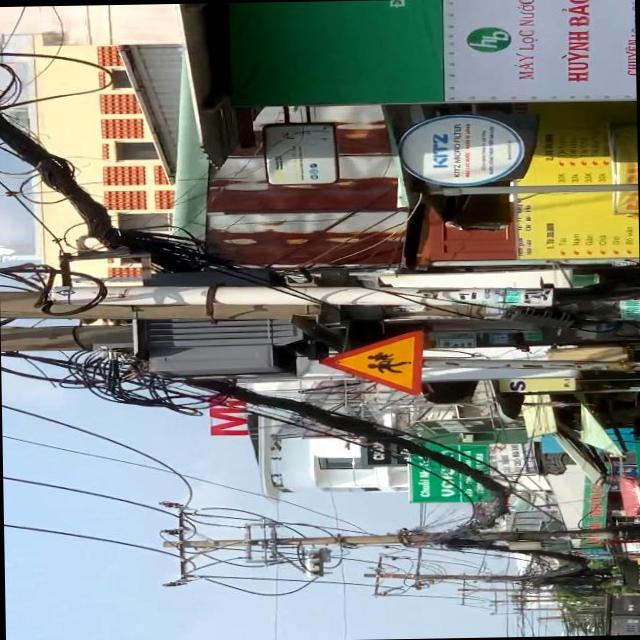W-225: (320, 329, 424, 396)
